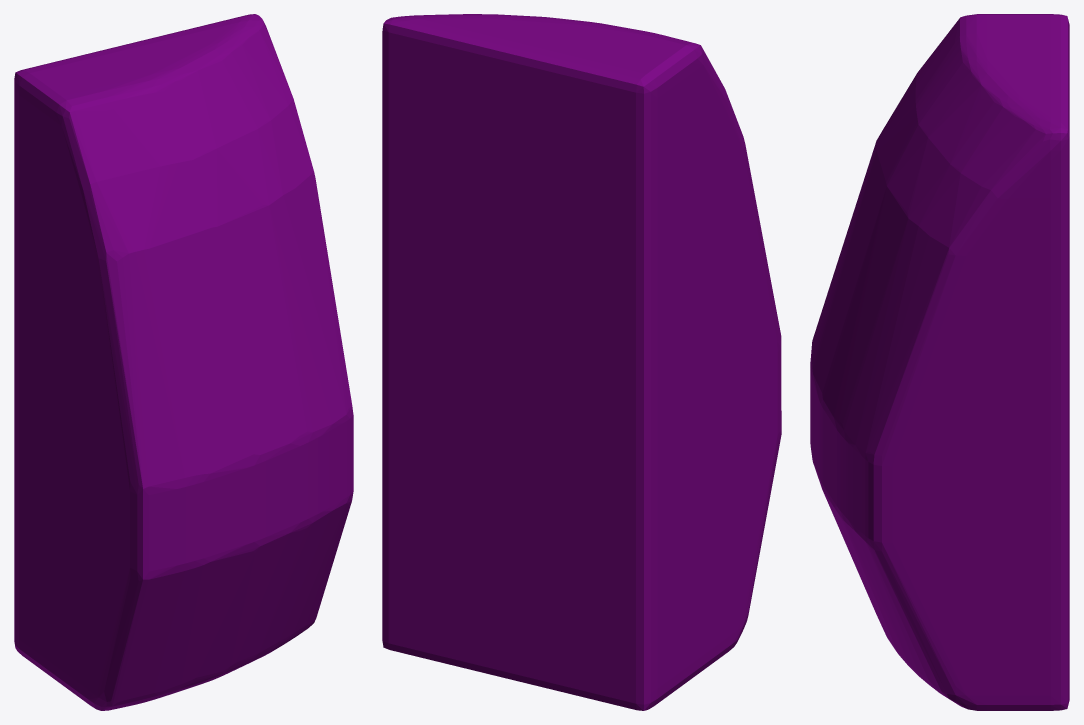
File: right_hip_roll_link_part_11.obj
3 views of the same model, side by side, from view 1: azimuth 30°, elevation 25°; view 2: azimuth 150°, elevation 25°; view 3: azimuth 270°, elevation 25° (orthographic). The views are drawn at different scales.
Size of the model in its own units: 0.0336 by 0.0752 by 0.0303.
